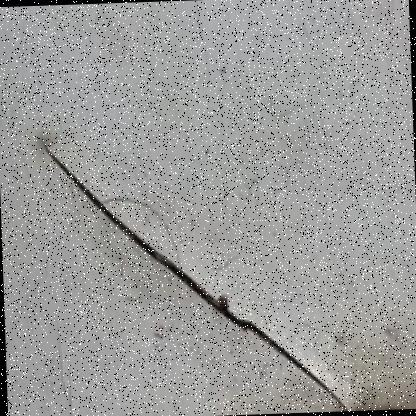Crack: (15, 120, 369, 415)
